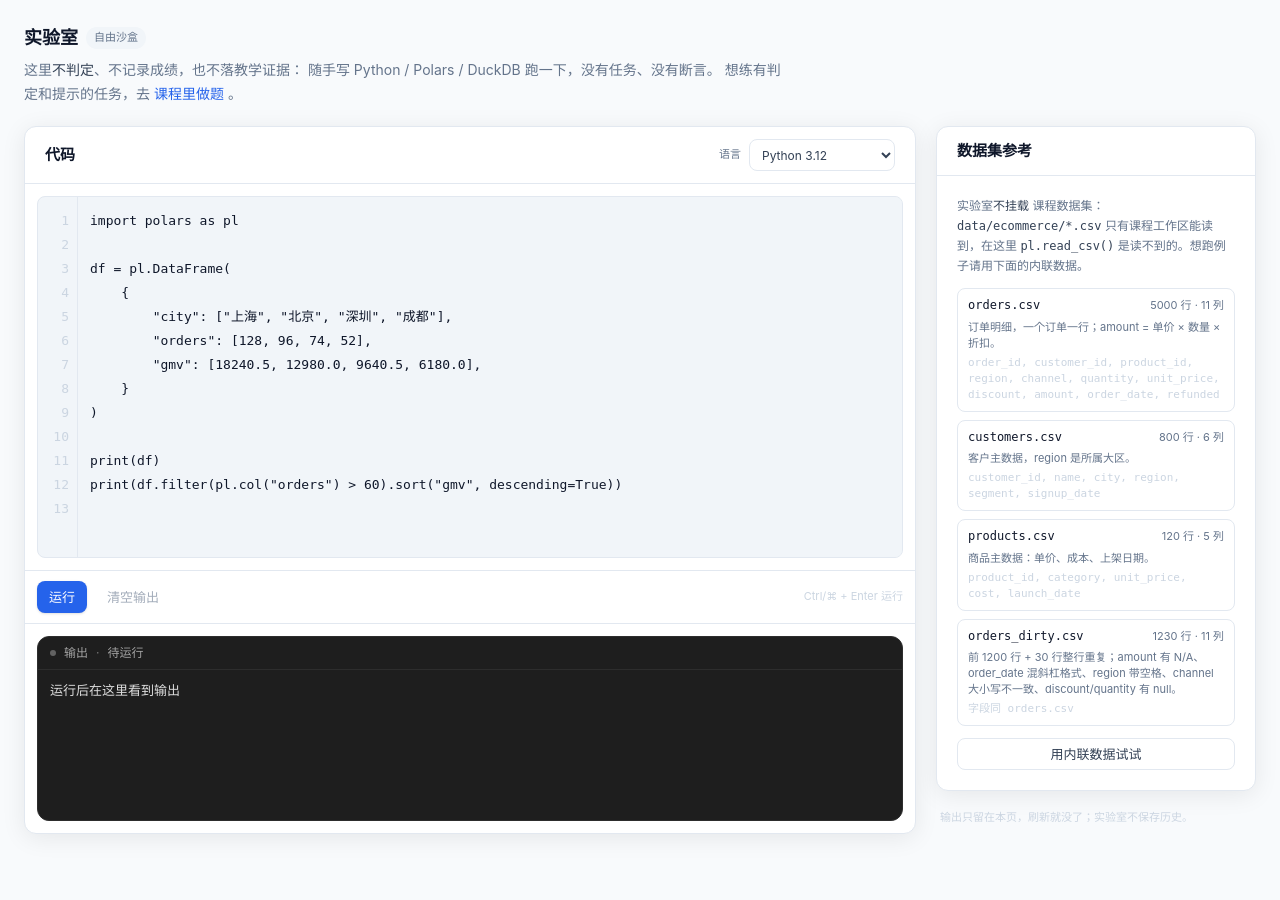
Lab 实验室页面 › 运行中按钮进入 loading 且不可重复提交
Click the button "运行" at point(62, 597), box 37,581 -> 87,613
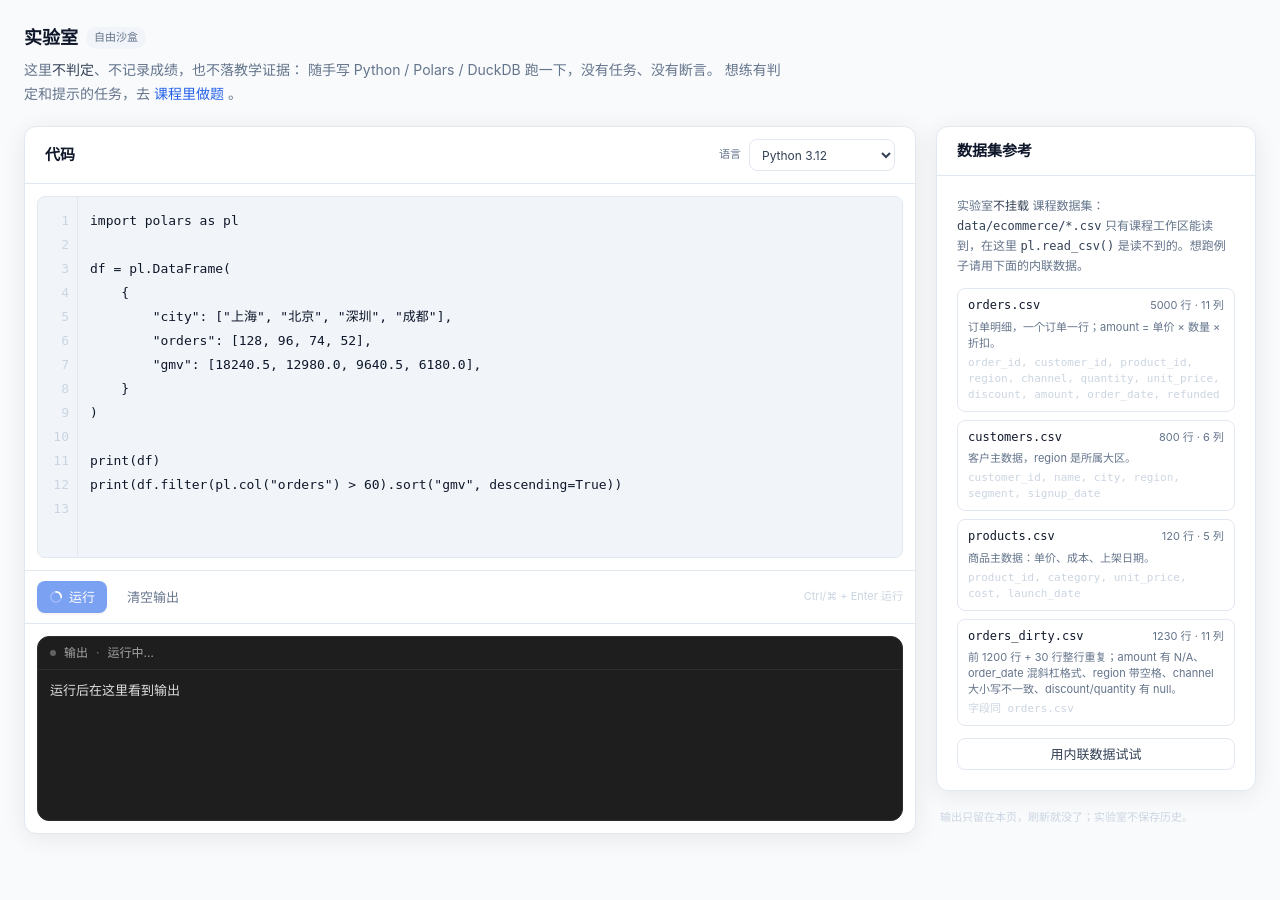
Now the button "运行" is disabled
Now the text "运行中…" is shown, box 108,645 -> 154,661
Click the button "运行" at point(72, 597), box 37,581 -> 107,613
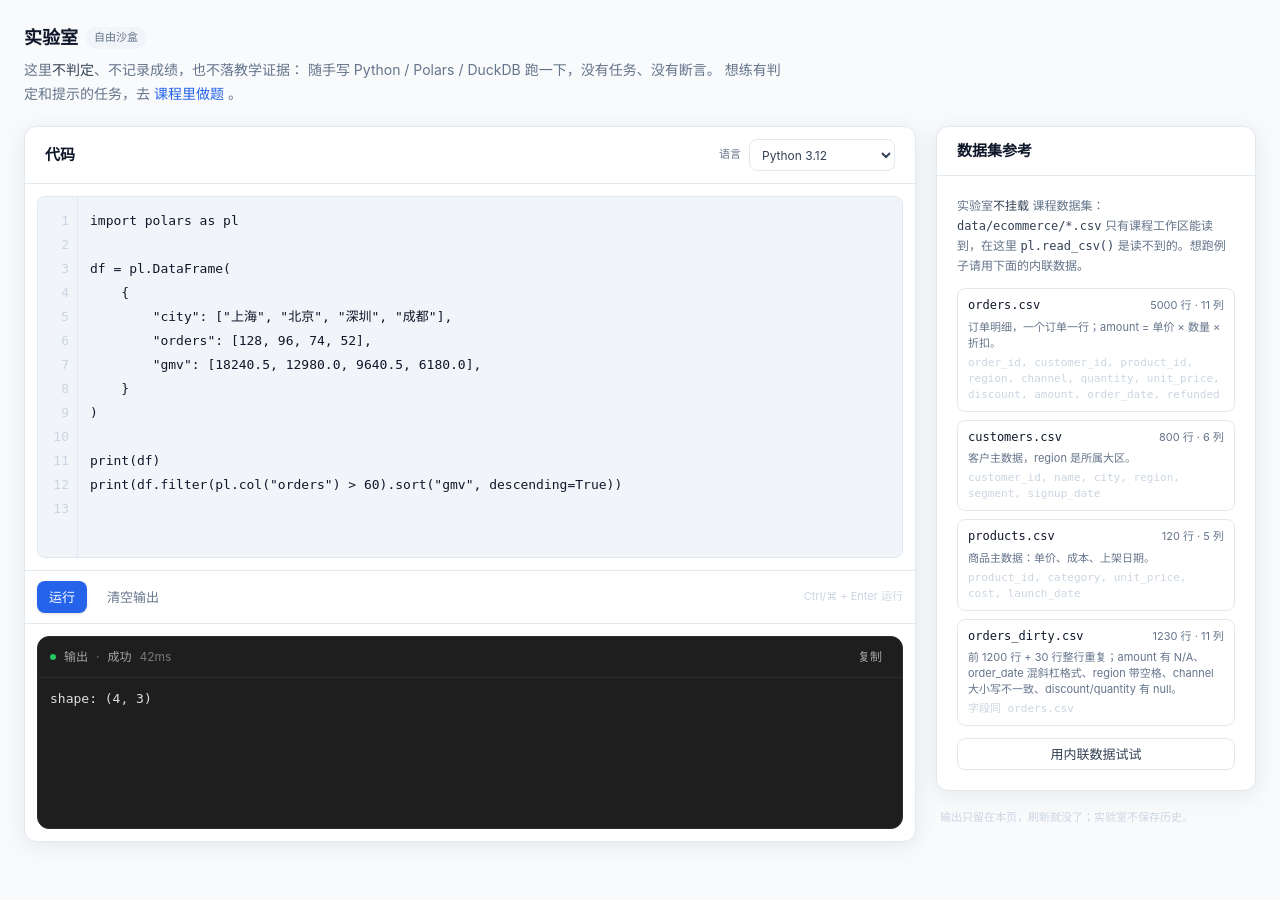
Now the text "shape: (4, 3)" is shown, box 50,691 -> 152,706
Now the button "运行" is enabled, box 37,581 -> 87,613
